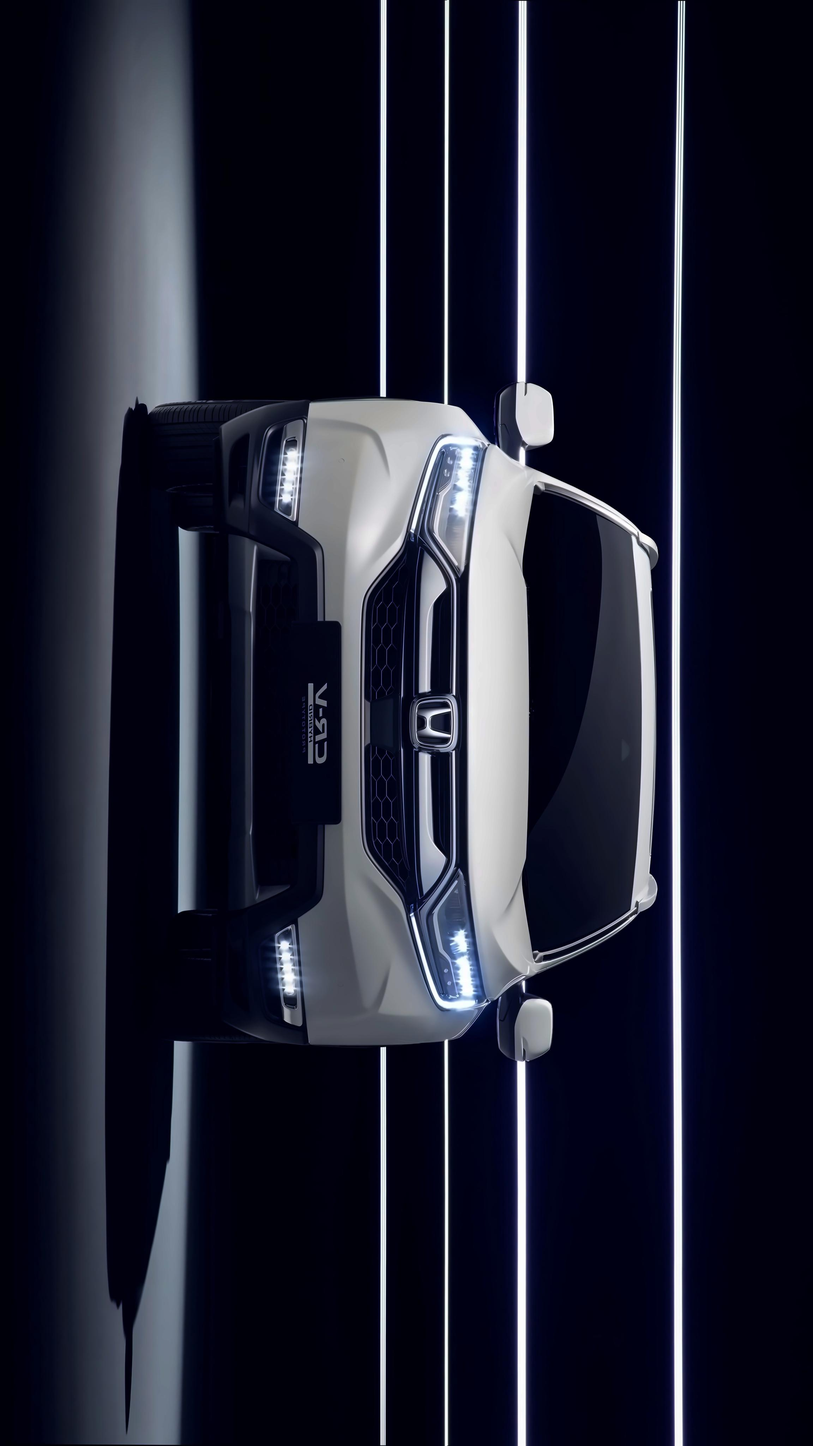Car hood: (448, 436, 539, 1007)
Front bumper: (214, 392, 435, 1059)
Headlight - -L-: (402, 860, 482, 1017)
Headlight - -R-: (408, 436, 489, 587)
Side mirror - -L-: (484, 989, 556, 1075)
Side mirror - -R-: (494, 369, 566, 469)
